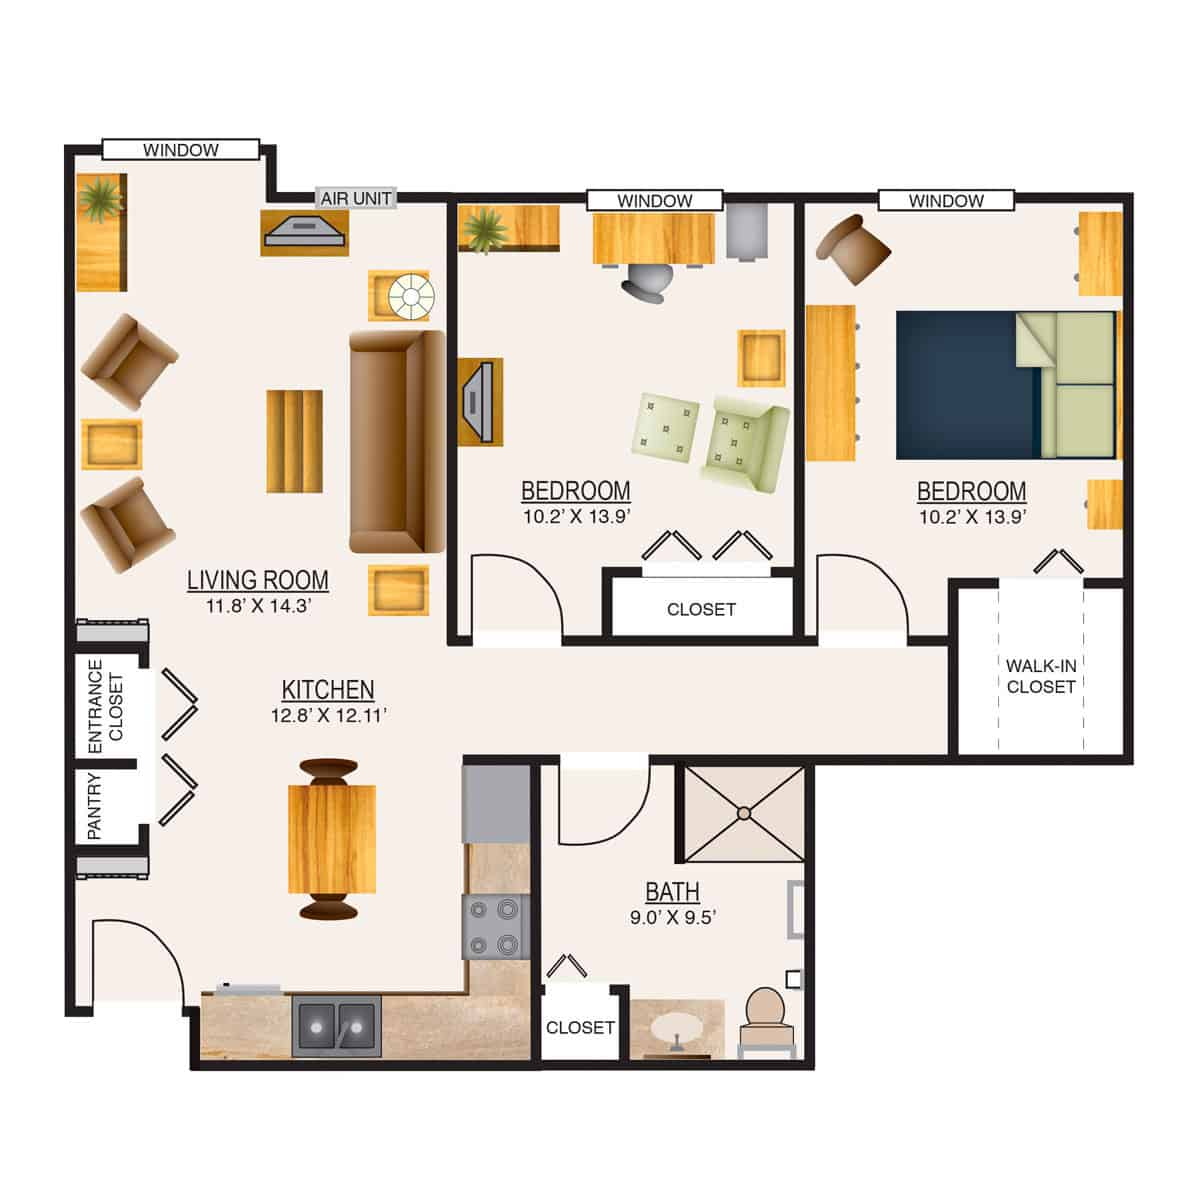door: (80, 903, 191, 982), (462, 541, 573, 620), (804, 530, 915, 609), (543, 773, 654, 851)
room: (77, 190, 452, 649), (454, 195, 807, 647), (202, 642, 466, 995), (536, 756, 813, 1070), (945, 581, 1134, 760)
window: (880, 186, 1025, 215), (102, 142, 255, 165), (587, 192, 718, 210)
